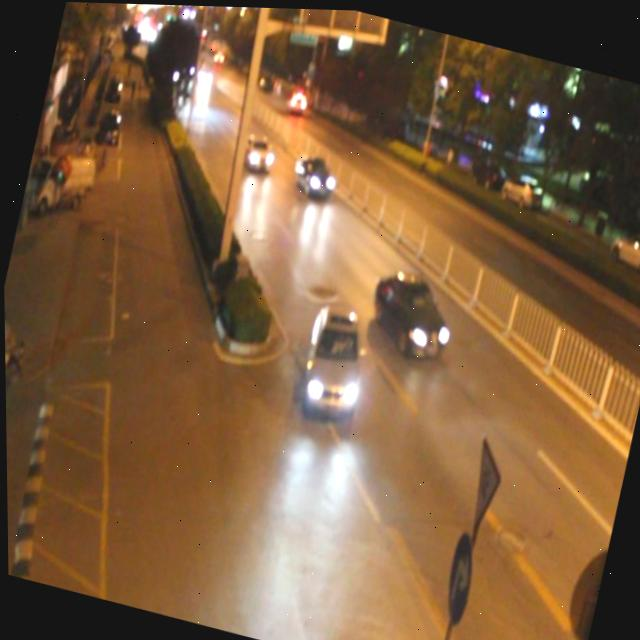car: (290, 297, 373, 421), (362, 261, 458, 361), (289, 148, 339, 199), (237, 129, 277, 170), (283, 84, 309, 113)
